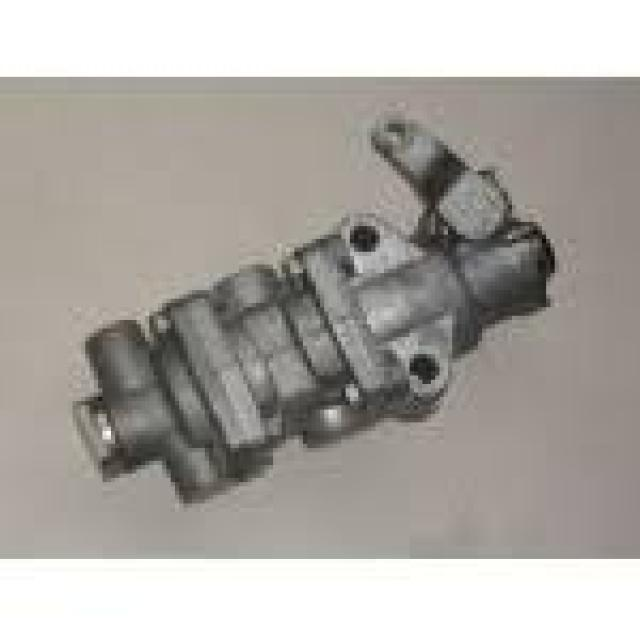video_frame: (72, 105, 554, 507)
